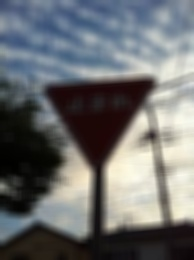Regulatory_sign_triangle: (42, 75, 155, 169)
